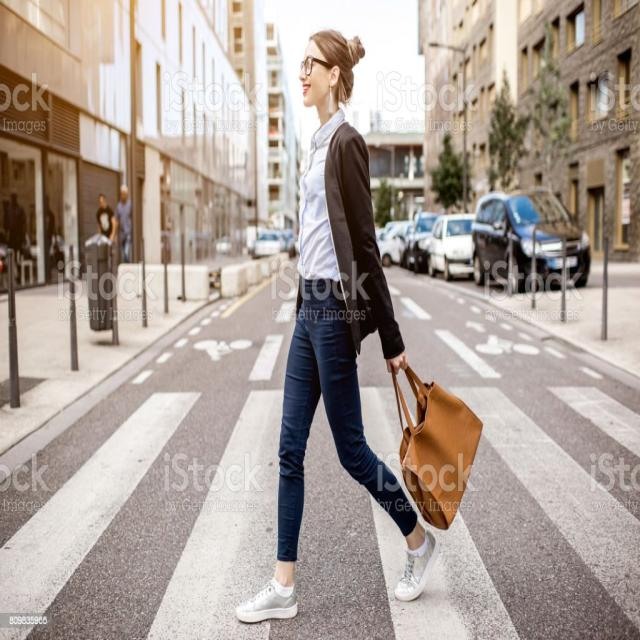Person: (235, 31, 483, 626)
